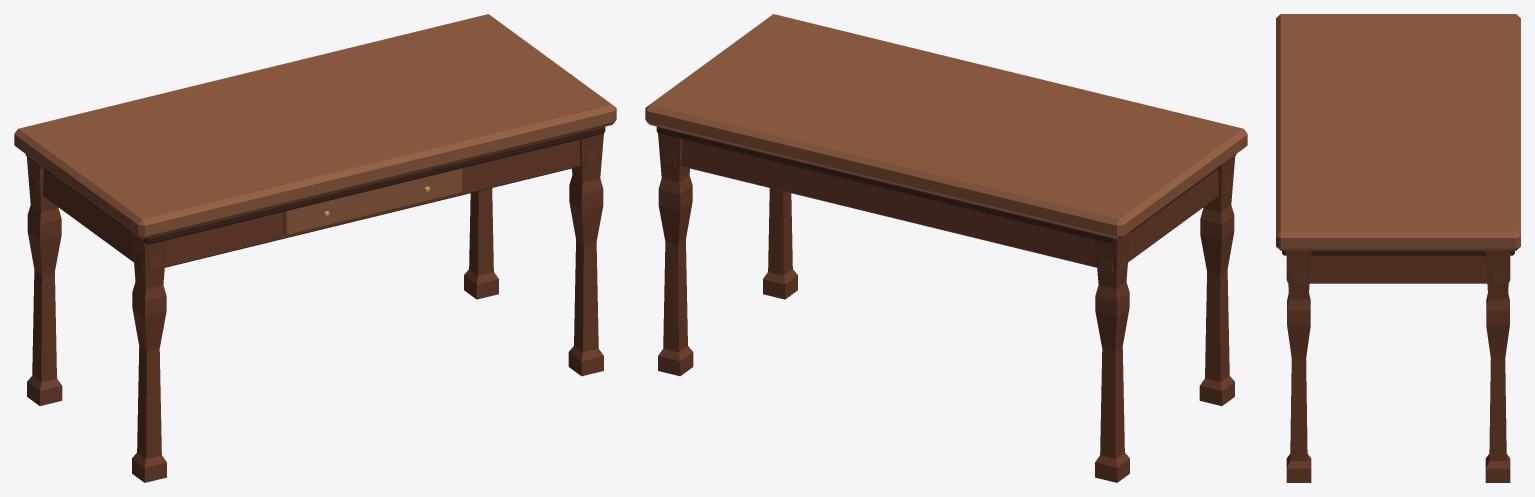
File: table_06.glb
The picture shows the model from 3 angles, left to right: view 1: azimuth 30°, elevation 25°; view 2: azimuth 150°, elevation 25°; view 3: azimuth 270°, elevation 25°; orthographic projection. The views are drawn at different scales.
Visible parts, largest first — view 1: Top, Aprons, Leg_0_0, Leg_1_0, Leg_0_1, FrontDrawer, TopUndercut, Leg_1_1; view 2: Top, Aprons, Leg_0_1, Leg_1_1, Leg_0_0, TopUndercut, Leg_1_0; view 3: Top, Aprons, Leg_1_0, Leg_1_1, TopUndercut.
Boxes of the visible parts, <box> form: Top: <box>14,14,616,239</box>; Aprons: <box>31,139,598,272</box>; Leg_0_0: <box>131,231,166,482</box>; Leg_1_0: <box>568,133,603,376</box>; Leg_0_1: <box>26,155,62,405</box>; FrontDrawer: <box>283,168,462,235</box>; TopUndercut: <box>25,126,605,244</box>; Leg_1_1: <box>464,188,498,299</box>; Top: <box>645,14,1247,239</box>; Aprons: <box>663,139,1230,272</box>; Leg_0_1: <box>1095,231,1130,482</box>; Leg_1_1: <box>658,133,693,376</box>; Leg_0_0: <box>1199,155,1235,405</box>; TopUndercut: <box>656,126,1236,244</box>; Leg_1_0: <box>763,188,797,299</box>; Top: <box>1276,14,1520,250</box>; Aprons: <box>1287,255,1509,284</box>; Leg_1_0: <box>1286,251,1311,482</box>; Leg_1_1: <box>1485,251,1510,482</box>; TopUndercut: <box>1282,251,1514,255</box>.
Bounding box in the file's own units: 1.5 × 0.8 × 0.7.
